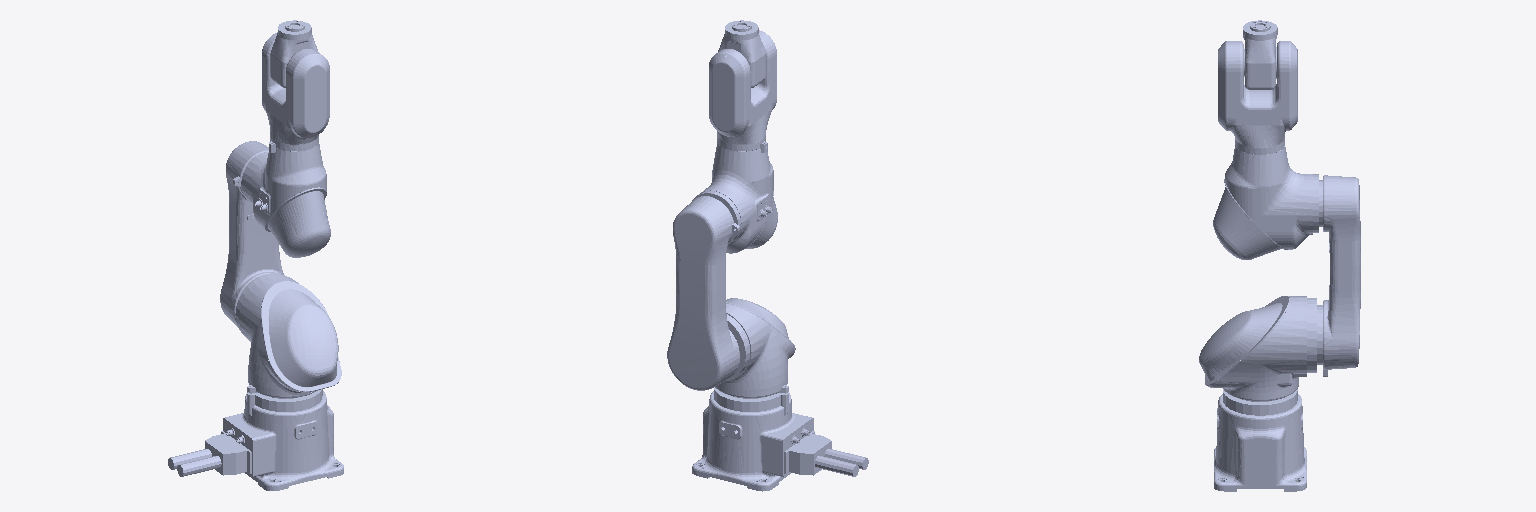
robot.urdf — foxbot:
<robot
  name="foxbot">
  <link
    name="foxbot_base">
    <inertial>
      <origin
        xyz="-0.0163235516334413 -5.42801898792411E-06 0.0819869649853121"
        rpy="0 0 0" />
      <mass
        value="4.59032211444505" />
      <inertia
        ixx="0.018208899058353"
        ixy="-3.46354630806397E-06"
        ixz="0.00156935061580264"
        iyy="0.0279697504596635"
        iyz="1.86659772370826E-06"
        izz="0.0249892791751756" />
    </inertial>
    <visual>
      <origin
        xyz="0 0 0"
        rpy="0 0 0" />
      <geometry>
        <mesh
          filename="package://foxbot/meshes/base_link.STL" />
      </geometry>
      <material
        name="">
        <color
          rgba="0.796078431372549 0.823529411764706 0.937254901960784 1" />
      </material>
    </visual>
    <collision>
      <origin
        xyz="0 0 0"
        rpy="0 0 0" />
      <geometry>
        <mesh
          filename="package://foxbot/meshes/base_link.STL" />
      </geometry>
    </collision>
  </link>
  <link
    name="Link_1">
    <inertial>
      <origin
        xyz="-0.0135415952378267 0.0871107115024519 -0.0138760556466131"
        rpy="0 0 0" />
      <mass
        value="4.21299238875099" />
      <inertia
        ixx="0.0153288387858665"
        ixy="-0.00377985132183255"
        ixz="0.000458558007165404"
        iyy="0.0199480886004766"
        iyz="-0.00132613146731574"
        izz="0.0225508015576744" />
    </inertial>
    <visual>
      <origin
        xyz="0 0 0"
        rpy="0 0 0" />
      <geometry>
        <mesh
          filename="package://foxbot/meshes/Link_1.STL" />
      </geometry>
      <material
        name="">
        <color
          rgba="0.796078431372549 0.823529411764706 0.937254901960784 1" />
      </material>
    </visual>
    <collision>
      <origin
        xyz="0 0 0"
        rpy="0 0 0" />
      <geometry>
        <mesh
          filename="package://foxbot/meshes/Link_1.STL" />
      </geometry>
    </collision>
  </link>
  <joint
    name="J1"
    type="continuous">
    <origin
      xyz="0 0 0.183"
      rpy="1.5707963267949 0 -1.5707963267949" />
    <parent
      link="foxbot_base" />
    <child
      link="Link_1" />
    <axis
      xyz="0 1 0" />
  </joint>
  <link
    name="Link_2">
    <inertial>
      <origin
        xyz="-0.00115604958667437 0.124452341234557 0.0373970992666749"
        rpy="0 0 0" />
      <mass
        value="2.54434009750127" />
      <inertia
        ixx="0.0348704197529745"
        ixy="-0.000279802590578281"
        ixz="-3.57637755347594E-06"
        iyy="0.00316769897365321"
        iyz="0.000190319862089532"
        izz="0.0361136411830753" />
    </inertial>
    <visual>
      <origin
        xyz="0 0 0"
        rpy="0 0 0" />
      <geometry>
        <mesh
          filename="package://foxbot/meshes/Link_2.STL" />
      </geometry>
      <material
        name="">
        <color
          rgba="0.796078431372549 0.823529411764706 0.937254901960784 1" />
      </material>
    </visual>
    <collision>
      <origin
        xyz="0 0 0"
        rpy="0 0 0" />
      <geometry>
        <mesh
          filename="package://foxbot/meshes/Link_2.STL" />
      </geometry>
    </collision>
  </link>
  <joint
    name="J2"
    type="continuous">
    <origin
      xyz="-0.121 0.117 -0.02"
      rpy="1.5707963267949 -1.56133343806214 -1.5707963267949" />
    <parent
      link="Link_1" />
    <child
      link="Link_2" />
    <axis
      xyz="0 0 1" />
  </joint>
  <link
    name="Link_3">
    <inertial>
      <origin
        xyz="0.00116991210100781 0.00389190349337754 0.106586693184957"
        rpy="0 0 0" />
      <mass
        value="3.34548958121899" />
      <inertia
        ixx="0.018545675119802"
        ixy="-4.61762895361652E-06"
        ixz="1.46042021831776E-06"
        iyy="0.0107615345939171"
        iyz="-6.17725743652315E-05"
        izz="0.0132478283604091" />
    </inertial>
    <visual>
      <origin
        xyz="0 0 0"
        rpy="0 0 0" />
      <geometry>
        <mesh
          filename="package://foxbot/meshes/Link_3.STL" />
      </geometry>
      <material
        name="">
        <color
          rgba="0.796078431372549 0.823529411764706 0.937254901960784 1" />
      </material>
    </visual>
    <collision>
      <origin
        xyz="0 0 0"
        rpy="0 0 0" />
      <geometry>
        <mesh
          filename="package://foxbot/meshes/Link_3.STL" />
      </geometry>
    </collision>
  </link>
  <joint
    name="J3"
    type="continuous">
    <origin
      xyz="-0.00130457385796967 0.280000773062928 0"
      rpy="3.14159265358979 0 -3.13212976485703" />
    <parent
      link="Link_2" />
    <child
      link="Link_3" />
    <axis
      xyz="0 0 -1" />
  </joint>
  <link
    name="Link_4">
    <inertial>
      <origin
        xyz="-2.31904881879963E-05 -0.0054666561200761 0.0969057561289095"
        rpy="0 0 0" />
      <mass
        value="1.82726244296819" />
      <inertia
        ixx="0.00935961638941899"
        ixy="-2.10363662980741E-07"
        ixz="3.94764663004733E-06"
        iyy="0.00660395012030122"
        iyz="-0.000245281845746558"
        izz="0.00469464108619674" />
    </inertial>
    <visual>
      <origin
        xyz="0 0 0"
        rpy="0 0 0" />
      <geometry>
        <mesh
          filename="package://foxbot/meshes/Link_4.STL" />
      </geometry>
      <material
        name="">
        <color
          rgba="0.796078431372549 0.823529411764706 0.937254901960784 1" />
      </material>
    </visual>
    <collision>
      <origin
        xyz="0 0 0"
        rpy="0 0 0" />
      <geometry>
        <mesh
          filename="package://foxbot/meshes/Link_4.STL" />
      </geometry>
    </collision>
  </link>
  <joint
    name="J4"
    type="continuous">
    <origin
      xyz="0.00134506116833966 0.125999418501958 0.121"
      rpy="-1.5707963267949 0 0" />
    <parent
      link="Link_3" />
    <child
      link="Link_4" />
    <axis
      xyz="0 0 1" />
  </joint>
  <link
    name="Link_5">
    <inertial>
      <origin
        xyz="1.21099561711802E-07 0.0103060430938787 0.0319171895178193"
        rpy="0 0 0" />
      <mass
        value="0.522662129489494" />
      <inertia
        ixx="0.000670021741090753"
        ixy="1.34979003623211E-10"
        ixz="-4.96253127204476E-09"
        iyy="0.000421836901584165"
        iyz="5.21977873367666E-07"
        izz="0.000777554079600959" />
    </inertial>
    <visual>
      <origin
        xyz="0 0 0"
        rpy="0 0 0" />
      <geometry>
        <mesh
          filename="package://foxbot/meshes/Link_5.STL" />
      </geometry>
      <material
        name="">
        <color
          rgba="0.796078431372549 0.823529411764706 0.937254901960784 1" />
      </material>
    </visual>
    <collision>
      <origin
        xyz="0 0 0"
        rpy="0 0 0" />
      <geometry>
        <mesh
          filename="package://foxbot/meshes/Link_5.STL" />
      </geometry>
    </collision>
  </link>
  <joint
    name="J5"
    type="continuous">
    <origin
      xyz="0 0.032 0.174"
      rpy="1.5707963267949 0 0" />
    <parent
      link="Link_4" />
    <child
      link="Link_5" />
    <axis
      xyz="0 0 -1" />
  </joint>
  <link
    name="Link_6">
    <inertial>
      <origin
        xyz="2.4980018054066E-16 -0.000104998486852526 -0.00961770832123632"
        rpy="0 0 1.57" />
      <mass
        value="0.0206169988992599" />
      <inertia
        ixx="2.64501460179715E-06"
        ixy="5.34231091435883E-22"
        ixz="-2.23575627816483E-20"
        iyy="2.67933676824264E-06"
        iyz="-1.32433316496744E-08"
        izz="4.26669735509732E-06" />
    </inertial>
    <visual>
      <origin
        xyz="0 0 0"
        rpy="0 0 1.57" />
      <geometry>
        <mesh
          filename="package://foxbot/meshes/Link_6.STL" />
      </geometry>
      <material
        name="">
        <color
          rgba="0.796078431372549 0.823529411764706 0.937254901960784 1" />
      </material>
    </visual>
    <collision>
      <origin
        xyz="0 0 0"
        rpy="0 0 1.57" />
      <geometry>
        <mesh
          filename="package://foxbot/meshes/Link_6.STL" />
      </geometry>
    </collision>
  </link>
  <joint
    name="J6"
    type="continuous">
    <origin
      xyz="0 0.08 0.032"
      rpy="-1.57 0 0" />
    <parent
      link="Link_5" />
    <child
      link="Link_6" />
    <axis
      xyz="0 0 1" />
  </joint>
</robot>

--- Facts derived from the render (not from the file) ---
3 views of the same robot in one strip: view 1: azimuth 30°, elevation 25°; view 2: azimuth 150°, elevation 25°; view 3: azimuth 270°, elevation 25° (orthographic).
Robot: foxbot — 7 links, 6 joints (6 continuous); root link foxbot_base; default pose: all joints at 0.
Links seen in each view (by area): view 1: foxbot_base, Link_1, Link_3, Link_4, Link_2, Link_5; view 2: foxbot_base, Link_2, Link_4, Link_3, Link_1, Link_5; view 3: Link_1, Link_3, foxbot_base, Link_2, Link_4, Link_5.
Link boxes in pixels (<box>): foxbot_base: <box>168,389,343,490</box>; Link_1: <box>235,273,341,397</box>; Link_3: <box>241,143,330,257</box>; Link_4: <box>262,32,329,150</box>; Link_2: <box>220,141,283,326</box>; Link_5: <box>270,20,317,87</box>; foxbot_base: <box>692,387,868,491</box>; Link_2: <box>667,196,739,390</box>; Link_4: <box>709,30,776,150</box>; Link_3: <box>692,141,777,253</box>; Link_1: <box>715,298,795,397</box>; Link_5: <box>718,20,765,87</box>; Link_1: <box>1199,296,1322,400</box>; Link_3: <box>1213,145,1322,259</box>; foxbot_base: <box>1214,389,1306,491</box>; Link_2: <box>1323,175,1360,376</box>; Link_4: <box>1218,41,1297,154</box>; Link_5: <box>1243,20,1277,89</box>.
Size in the robot's own frame: 0.347 by 0.3119 by 0.96 metres.
Meshes: 7 distinct files referenced, 7 mesh visuals loaded (7 binary STL).